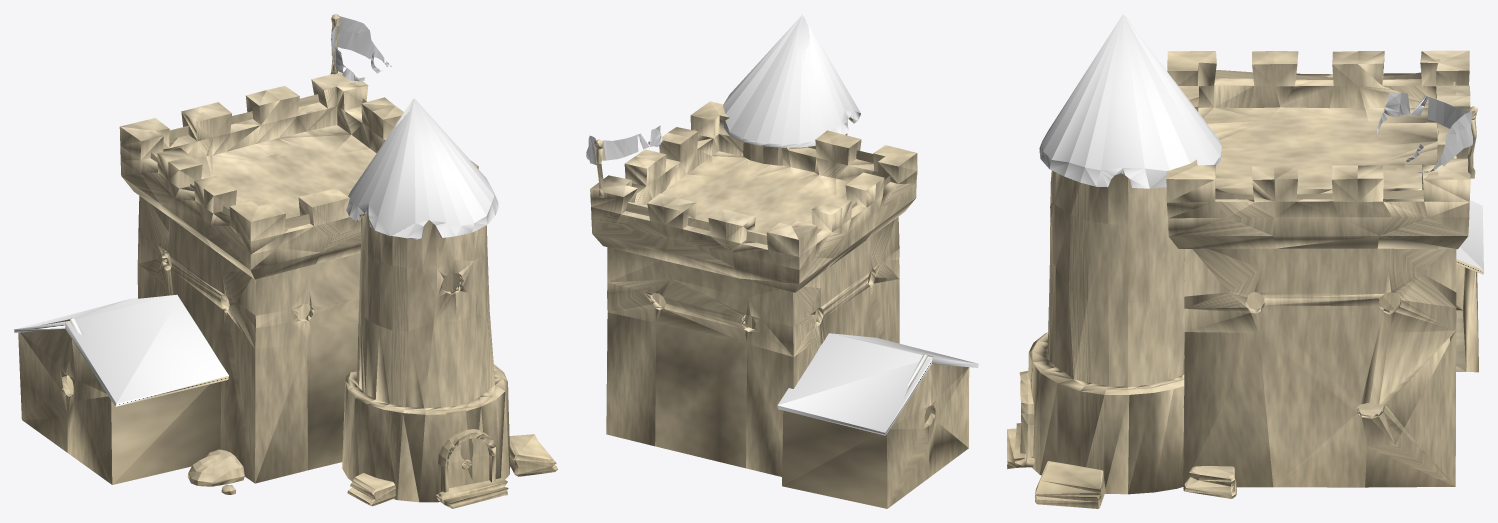
3 renders of one model, left to right at view 1: azimuth 30°, elevation 25°; view 2: azimuth 150°, elevation 25°; view 3: azimuth 270°, elevation 25°, orthographic. The views are drawn at different scales.
Visible parts, largest first — view 1: castle_d1.6; view 2: castle_d1.6; view 3: castle_d1.6.
Boxes of the visible parts, x1,y1,x2,y2 form: castle_d1.6: (14,14,557,508); castle_d1.6: (586,14,978,508); castle_d1.6: (1007,14,1483,508).
Bounding box in the file's own units: 2.9 × 2.9 × 2.9.
2 materials, 1 textured.
